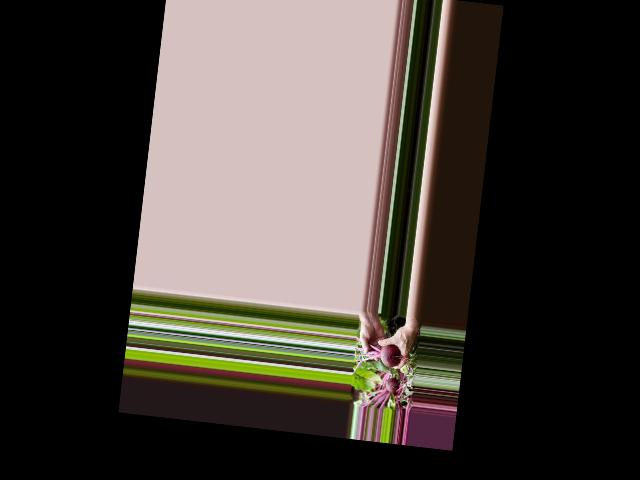beet: (352, 339, 402, 380)
